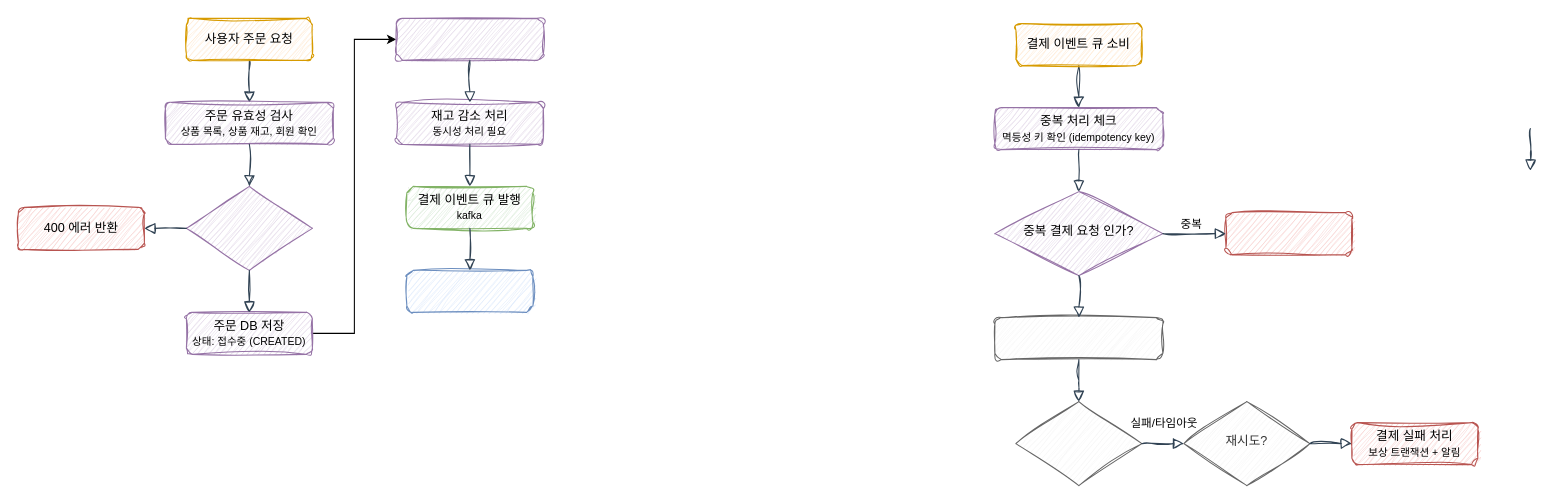
Image size: 1560x504. Some labels were removed from this diagram. Each missing label, with the box of its shape:
200 반환: (406, 269, 533, 312)
PG 결제 응답: (1015, 401, 1142, 486)
PG사 API 호출 timeout: 10s, 외부 네트워크 I/O: (994, 317, 1163, 360)
스킵 (무시) ACK 처리: (1225, 212, 1352, 255)
유효한가?: (185, 185, 312, 270)
주문 중간 테이블 저장 주문 + 상품 정보 저장: (395, 17, 543, 60)
